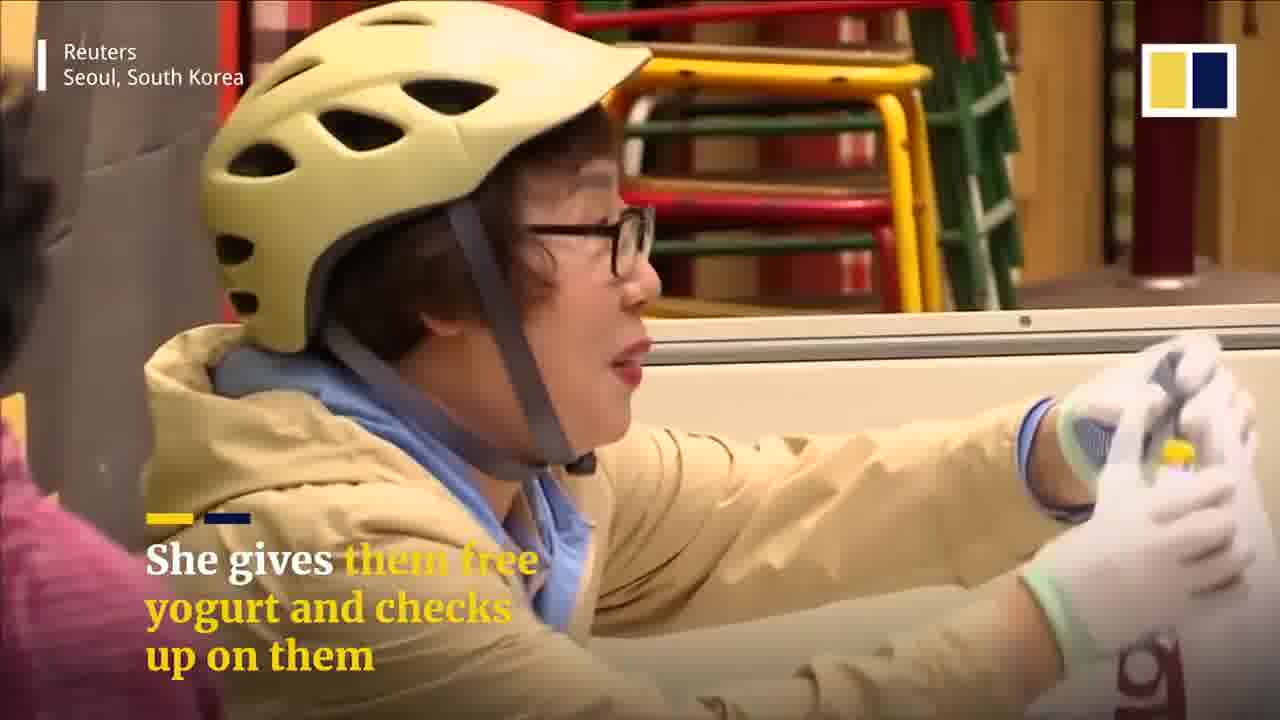Yakurut: (149, 7, 1260, 720)
